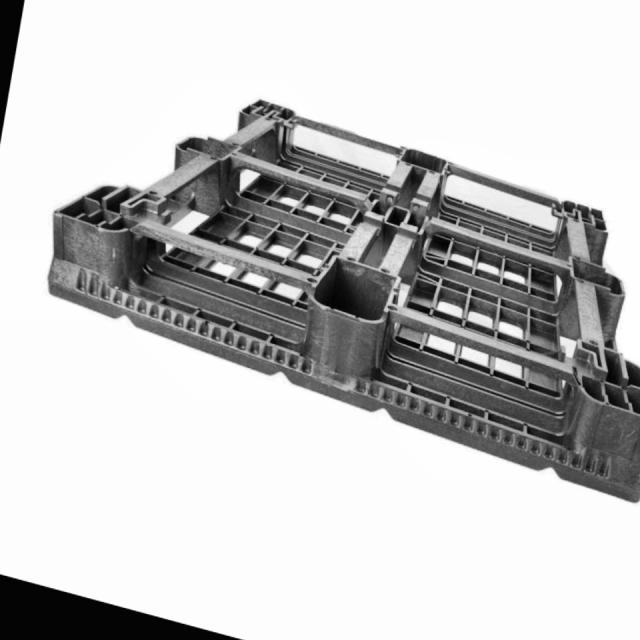non-igps: (43, 92, 640, 509)
